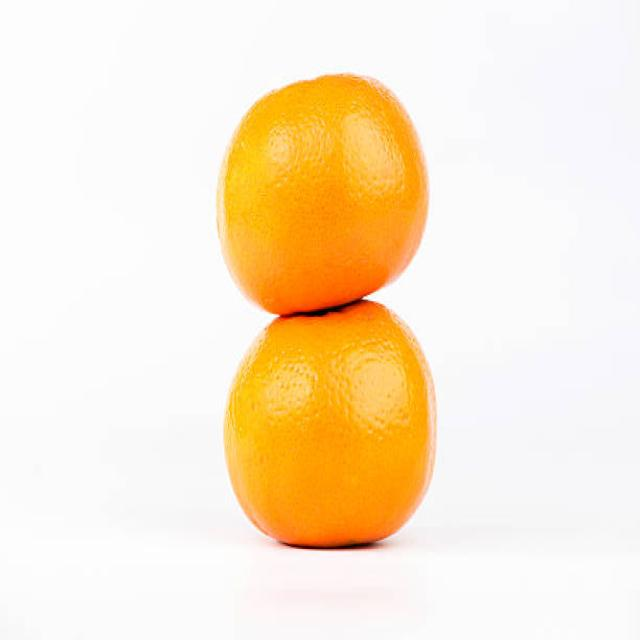Ripe: (211, 61, 430, 309), (218, 305, 442, 547)
